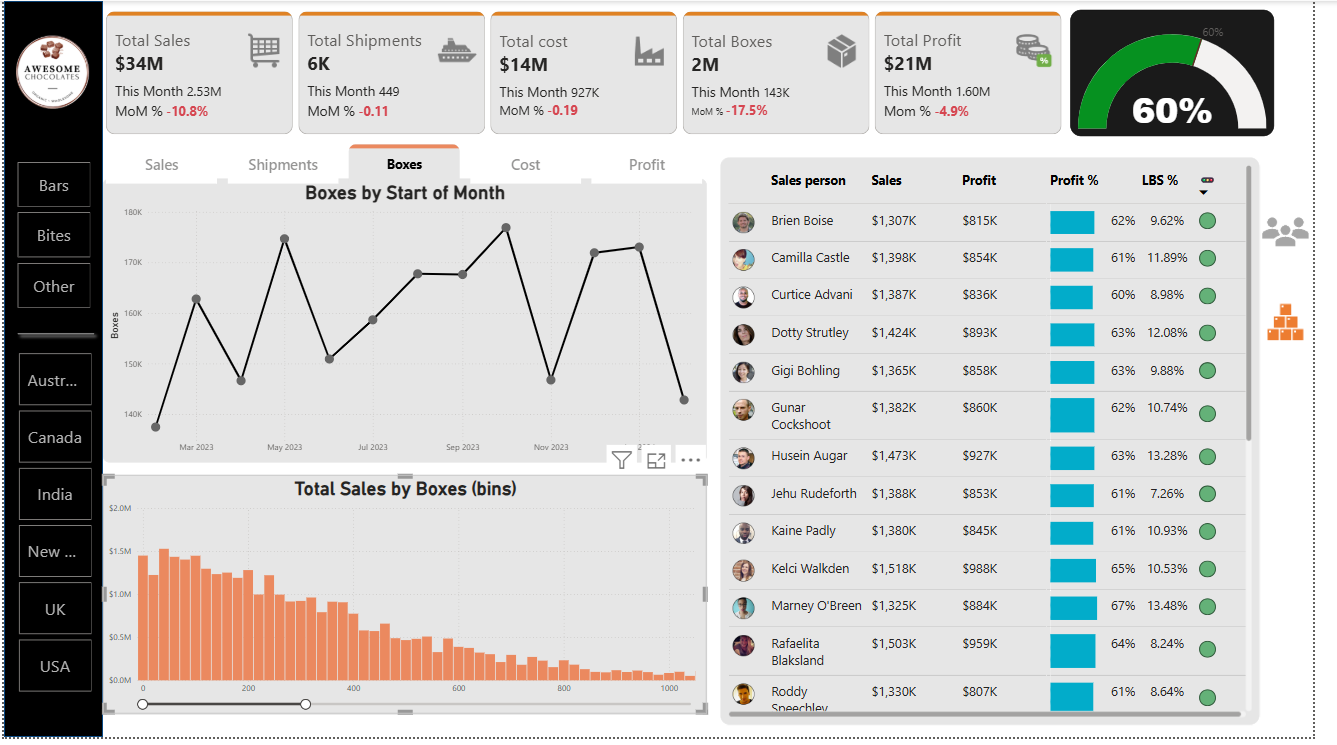

What the dashboard file says about the page in this screenshot:
{"tool":"powerbi","page":{"name":"Dashboard","canvas":[1920,1080],"ordinal":4},"visuals":[{"type":"cardVisual","fields":{"Data":["_Measures.Total Sales","_Measures.Total Shipments","_Measures.Total cost","_Measures.Total Boxes","_Measures.Total Profit"]},"box":[145.2,14.9,1413.2,182.5],"z":0},{"type":"gauge","fields":{"Y":["_Measures.Profit %"]},"box":[1564.6,12.8,299,185.3],"z":1000},{"type":"lineChart","fields":{"Y":["_Measures.Total Boxes"],"Category":["calendar.Start of Month"]},"box":[145.2,260.7,886.3,417.1],"z":2000},{"type":"advancedSlicerVisual","fields":{"Values":["Measure Selector.Measure Selector"]},"box":[145.2,205,886.3,63.3],"z":3000},{"type":"clusteredColumnChart","fields":{"Category":["shipments.Boxes (bins)"],"Y":["_Measures.Total Sales"]},"box":[145.2,694.5,886.3,351.9],"z":4000},{"type":"gauge","fields":{"Y":["_Measures.LBS %"]},"box":[832.7,719,179.8,95.4],"z":5000},{"type":"image","box":[748.4,731.9,97.2,69.7],"z":6000},{"type":"tableEx","title":"People Details","fields":{"Values":["people.Picture","people.Sales person","_Measures.Total Sales","_Measures.Total Profit","_Measures.Profit %","_Measures.LBS %","_Measures.Profit Target Indicator"]},"box":[1051,229.3,791,832.7],"z":7000},{"type":"shape","box":[0,0,145.2,1079.9],"z":9000},{"type":"image","title":"Product Icon","box":[1841.5,407.8,78.1,128],"z":10000},{"type":"image","box":[13,41,117.3,128.5],"z":11000},{"type":"advancedSlicerVisual","fields":{"Values":["products.Category"]},"box":[13,229,121,229],"z":12000},{"type":"advancedSlicerVisual","fields":{"Values":["locations.Geo"]},"box":[14.9,510.2,121,513.9],"z":13000},{"type":"shape","box":[11.2,467.3,130.3,41],"z":14000},{"type":"image","box":[1841.6,301.3,77.9,75.3],"z":15000}]}

Visuals, with their boxes in screenshot pixels (x1, y1, x2, y2), scaled from the page's 1920x1080 canvas onto the 1337x745 screenshot:
cardVisual - _Measures.Total Sales x _Measures.Total Shipments: <region>101, 10, 1085, 136</region>
gauge - _Measures.Profit %: <region>1090, 9, 1298, 137</region>
lineChart - _Measures.Total Boxes x calendar.Start of Month: <region>101, 180, 718, 468</region>
advancedSlicerVisual - Measure Selector.Measure Selector: <region>101, 141, 718, 185</region>
clusteredColumnChart - shipments.Boxes (bins) x _Measures.Total Sales: <region>101, 479, 718, 722</region>
gauge - _Measures.LBS %: <region>580, 496, 705, 562</region>
image: <region>521, 505, 589, 553</region>
"People Details" tableEx: <region>732, 158, 1283, 733</region>
shape: <region>0, 0, 101, 744</region>
"Product Icon" image: <region>1282, 281, 1336, 370</region>
image: <region>9, 28, 91, 117</region>
advancedSlicerVisual - products.Category: <region>9, 158, 93, 316</region>
advancedSlicerVisual - locations.Geo: <region>10, 352, 95, 706</region>
shape: <region>8, 322, 99, 351</region>
image: <region>1282, 208, 1336, 260</region>
